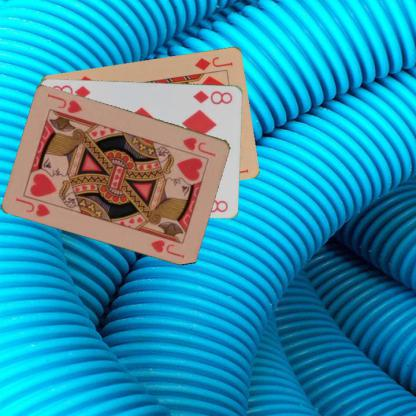8d: (191, 88, 234, 106)
Jd: (192, 53, 235, 72)
Jh: (180, 134, 218, 158), (13, 195, 52, 218)
